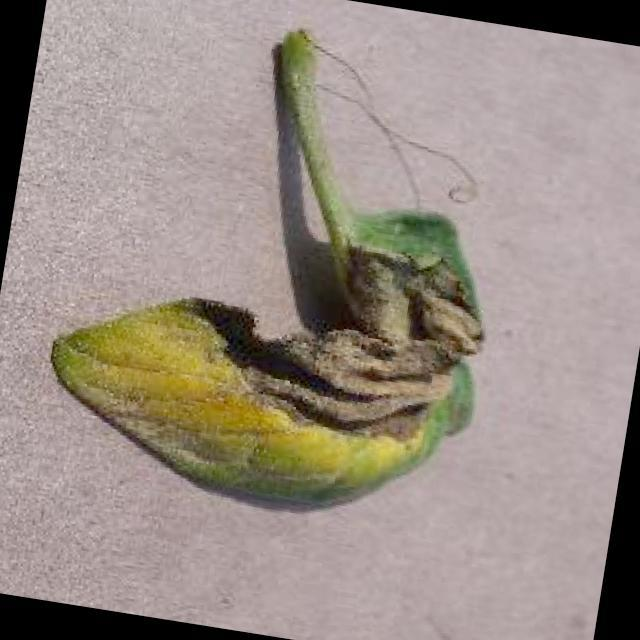Tomato late blight leaf: (39, 158, 508, 534)
